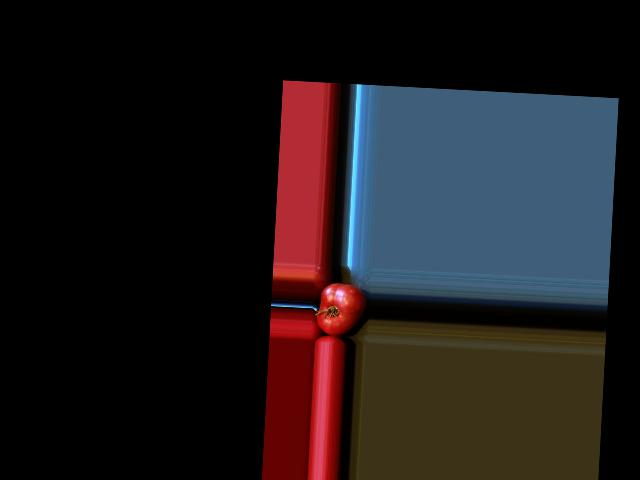tomato: (316, 282, 367, 337)
